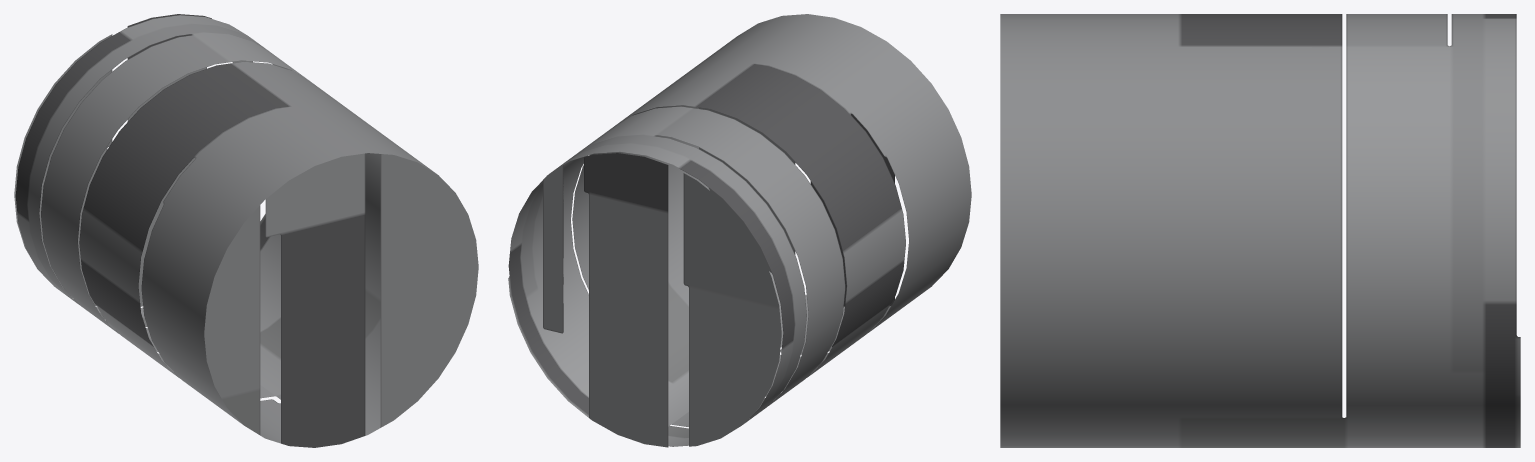
3 renders of one model, left to right at view 1: azimuth 30°, elevation 25°; view 2: azimuth 150°, elevation 25°; view 3: azimuth 270°, elevation 25°, orthographic. The views are drawn at different scales.
Bounding box in the file's own units: 0.7092 × 0.7092 × 0.8496.
